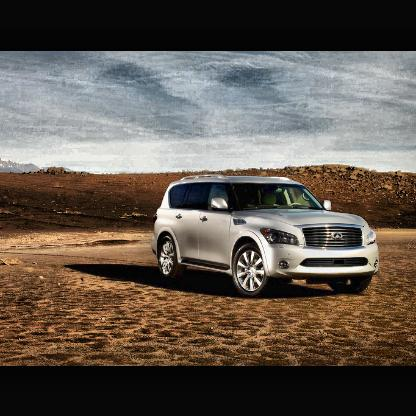Infiniti QX56 SUV 2011: (150, 172, 382, 298)
